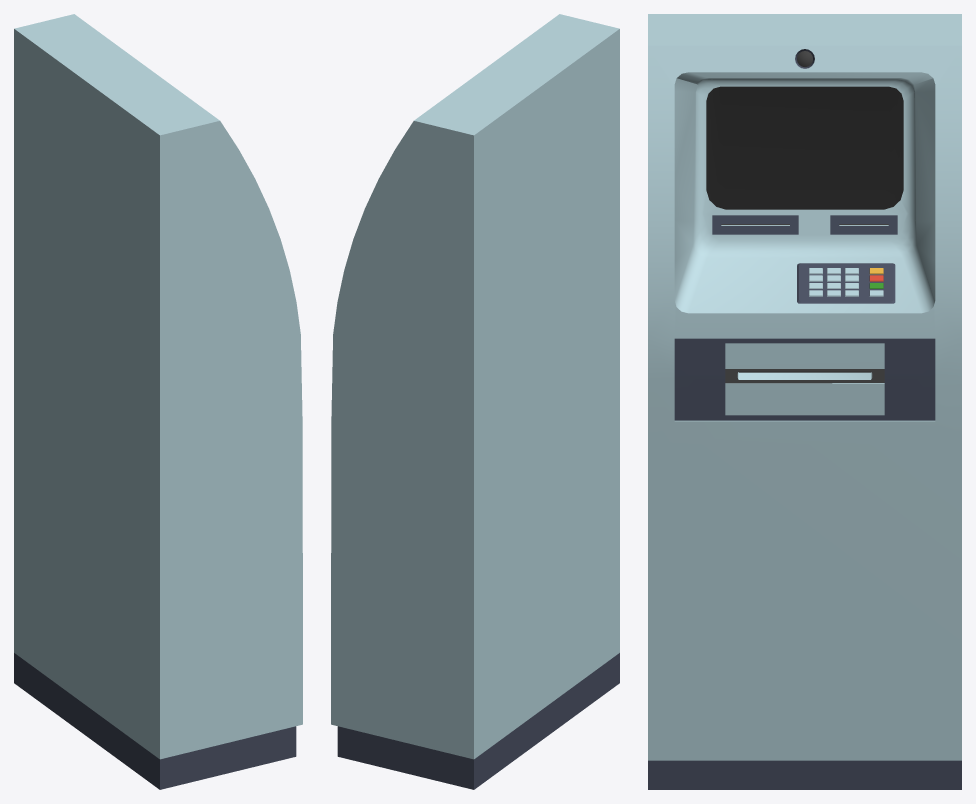
Rendered from 17_4_Model_AIRPORT_0.obj.
The picture shows the model from 3 angles, left to right: view 1: azimuth 30°, elevation 25°; view 2: azimuth 150°, elevation 25°; view 3: azimuth 270°, elevation 25°; orthographic projection. The views are drawn at different scales.
Parts seen in each view (by area): view 1: 17.4.Model_AIRPORT_0; view 2: 17.4.Model_AIRPORT_0; view 3: 17.4.Model_AIRPORT_0.
Part boxes in pixels (x1,y1,x2,y2): 17.4.Model_AIRPORT_0: [14, 14, 302, 789]; 17.4.Model_AIRPORT_0: [331, 14, 619, 789]; 17.4.Model_AIRPORT_0: [648, 14, 961, 789].
Bounding box in the file's own units: 0.4003 × 1.75 × 0.7075.
1 material, 1 textured.
